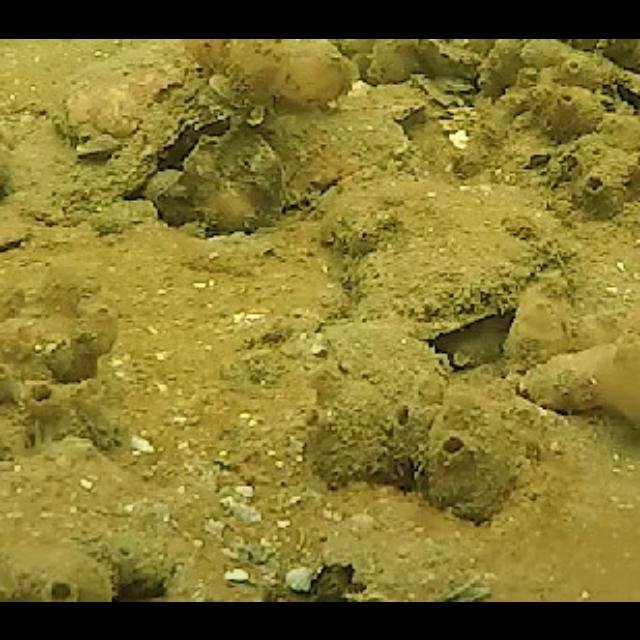Oyster-Closed: (326, 171, 564, 339), (306, 314, 442, 492), (100, 79, 238, 191), (161, 128, 287, 238), (430, 380, 518, 526)
